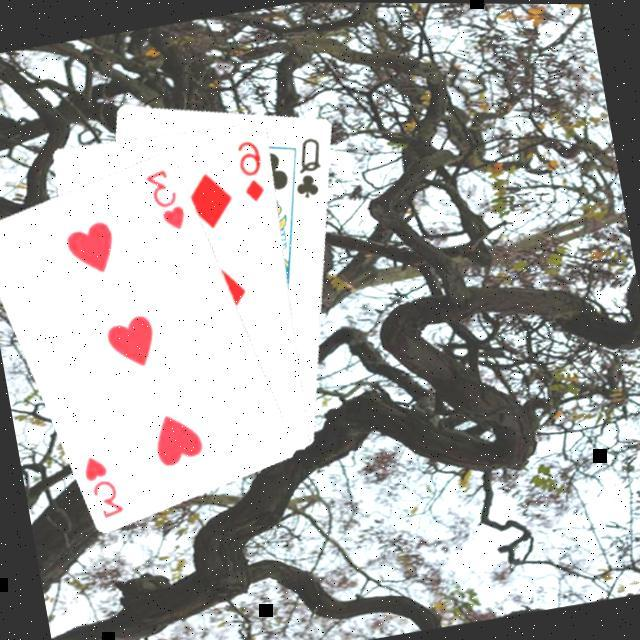3H: (80, 448, 130, 524), (143, 162, 193, 236)
6D: (234, 134, 273, 206)
QC: (286, 132, 334, 204)
